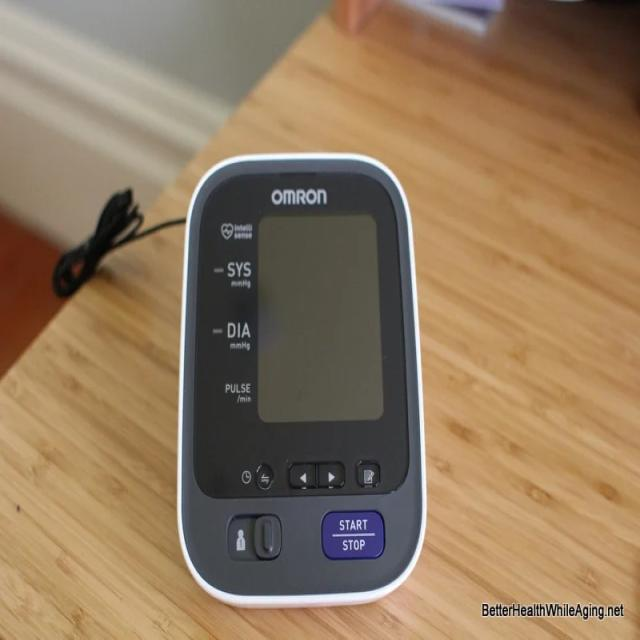ssd: (258, 215, 381, 421)
